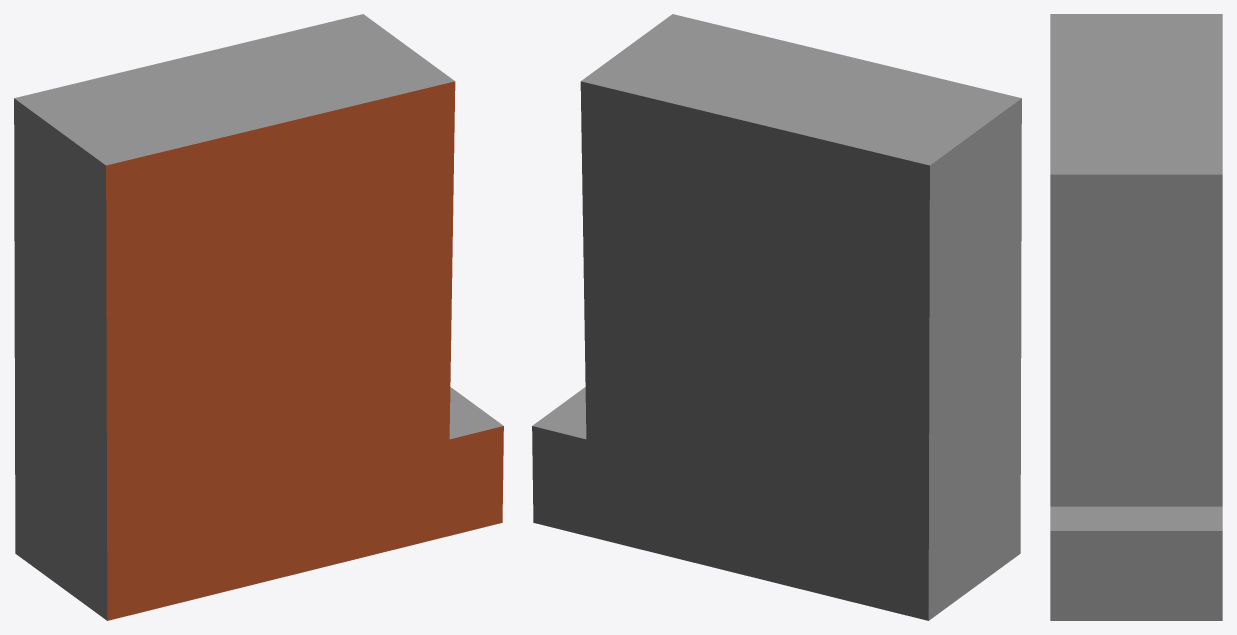
File: construction_1190_assumed_A_Casa_h6m.obj
3 views of the same model, side by side, from view 1: azimuth 30°, elevation 25°; view 2: azimuth 150°, elevation 25°; view 3: azimuth 270°, elevation 25° (orthographic). The views are drawn at different scales.
Visible parts, largest first — view 1: construction_1190_assumed_A_Casa; view 2: construction_1190_assumed_A_Casa; view 3: construction_1190_assumed_A_Casa.
Part boxes in pixels (left/top/right/bottom): construction_1190_assumed_A_Casa: left=14, top=14, right=503, bottom=620; construction_1190_assumed_A_Casa: left=532, top=14, right=1021, bottom=620; construction_1190_assumed_A_Casa: left=1050, top=14, right=1222, bottom=620.
Bounding box in the file's own units: 14.98 × 16.4 × 6.
